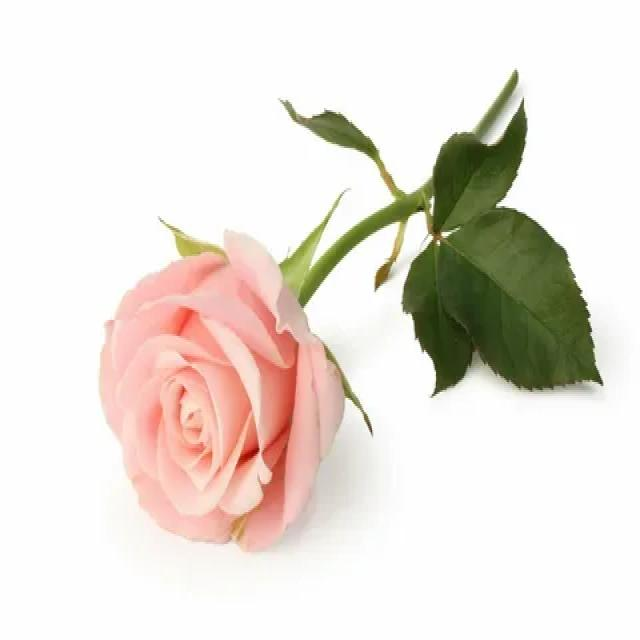rose: (82, 220, 362, 563)
